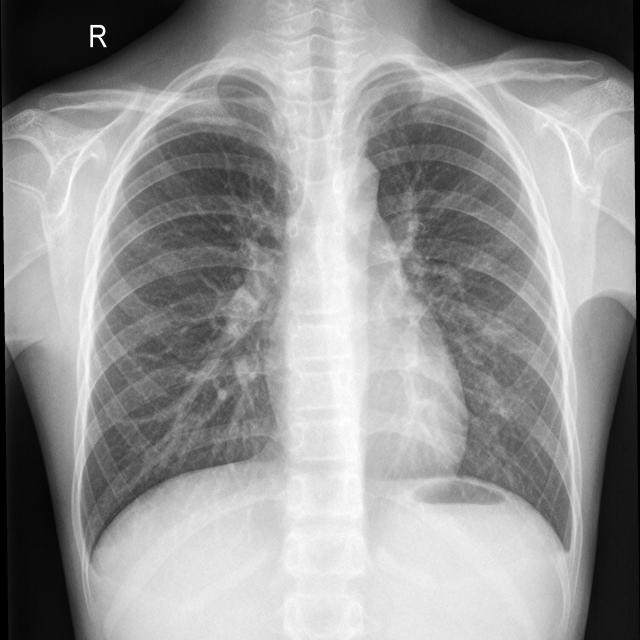no-pneumonia: (83, 72, 291, 550), (367, 72, 572, 543)
